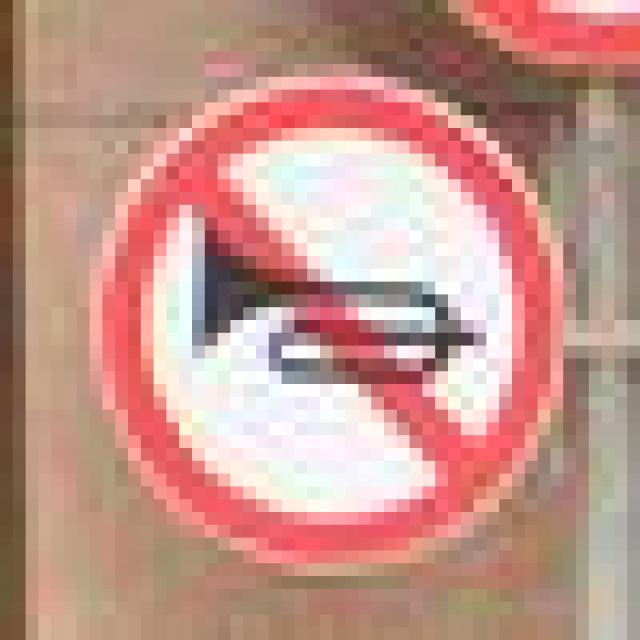HORN_PROHIBITED: (77, 51, 563, 563)
